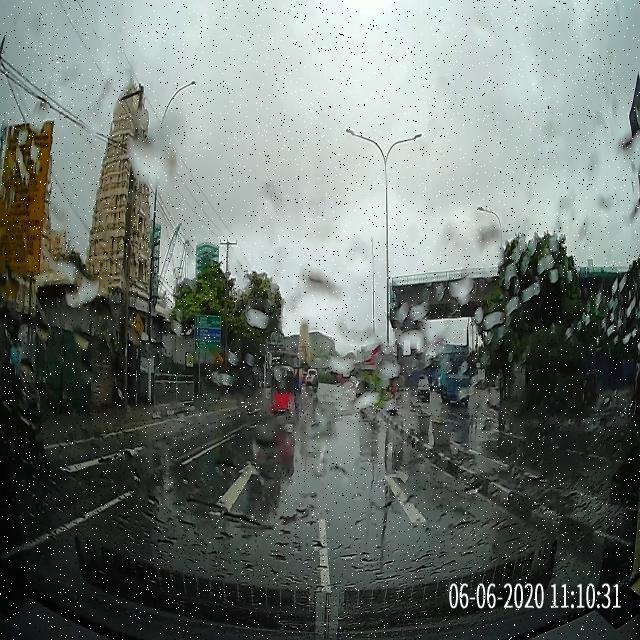forward: (115, 447, 322, 530)
